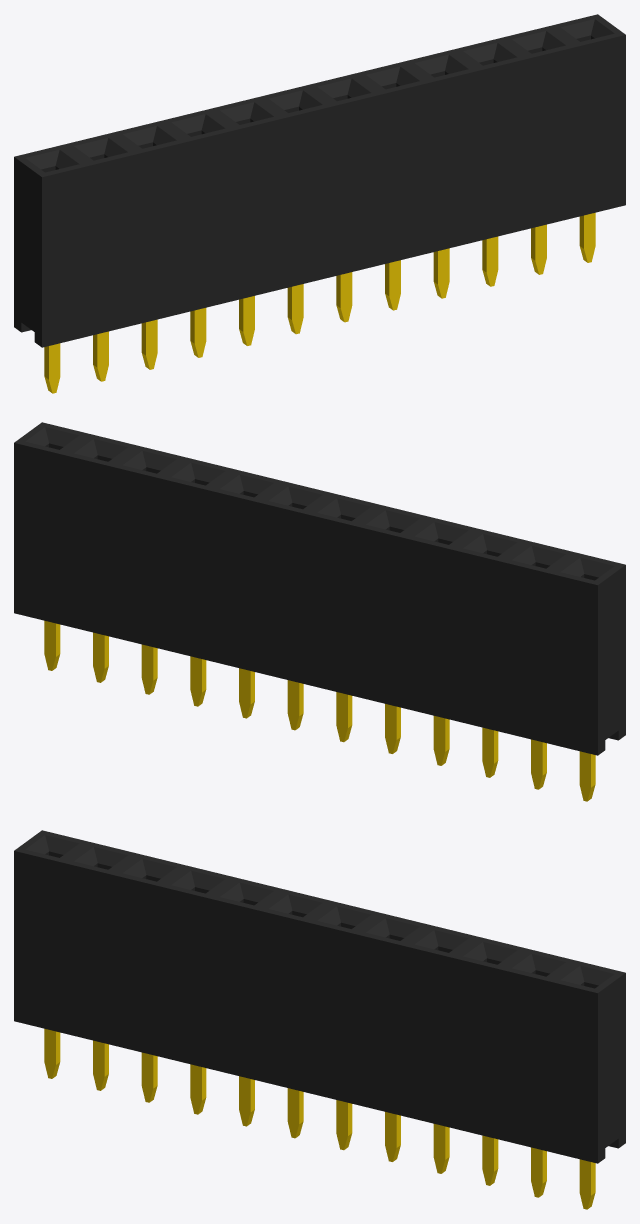
Rendered from PBS12.glb.
The picture shows the model from 3 angles, top to bottom: view 1: azimuth 30°, elevation 25°; view 2: azimuth 150°, elevation 25°; view 3: azimuth 330°, elevation 25°; orthographic projection.
Visible parts, largest first — view 1: PBS (DS1023 CONNFLY); view 2: PBS (DS1023 CONNFLY); view 3: PBS (DS1023 CONNFLY).
Boxes of the visible parts, bbox=[...] form: PBS (DS1023 CONNFLY): bbox=[14, 14, 625, 393]; PBS (DS1023 CONNFLY): bbox=[14, 422, 625, 801]; PBS (DS1023 CONNFLY): bbox=[14, 830, 625, 1209].
Size of the model in its own units: 0.0305 by 0.0115 by 0.00254.
